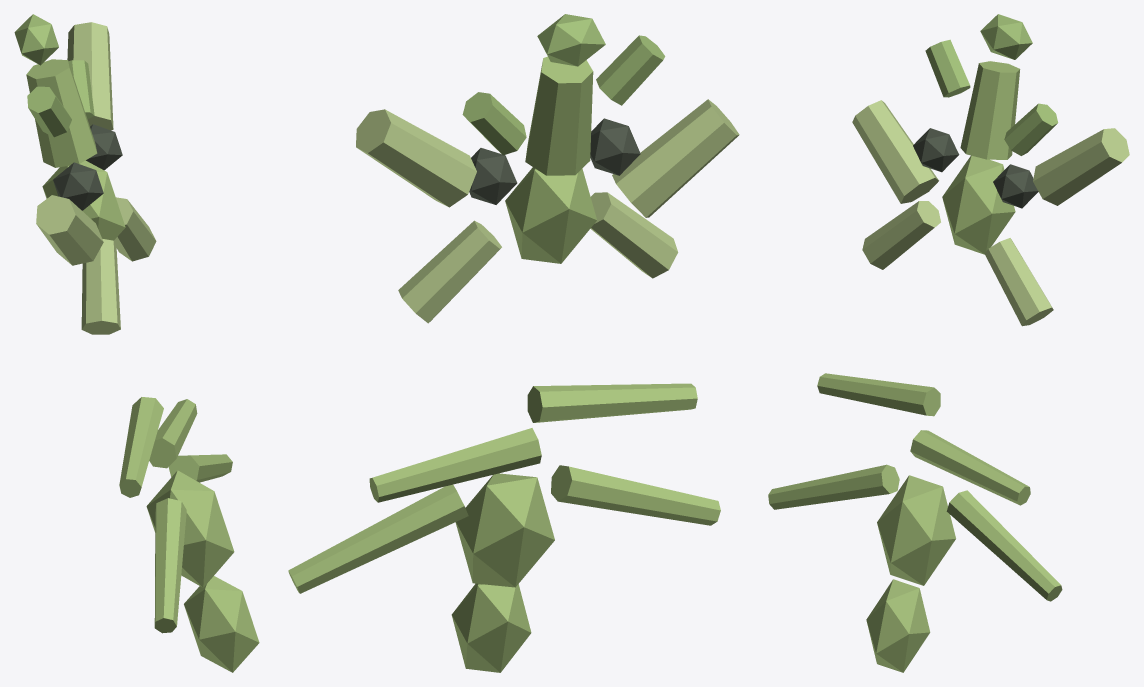
3 renders of one model, left to right at view 1: azimuth 30°, elevation 25°; view 2: azimuth 150°, elevation 25°; view 3: azimuth 270°, elevation 25°, orthographic. The views are drawn at different scales.
Parts seen in each view (by area): view 1: part1, part2, part3, part16, part12, part11, part9, part14, part0, part13, part10, part6 (+5 smaller); view 2: part1, part11, part3, part9, part0, part15, part13, part16, part14, part2, part10, part12 (+5 smaller); view 3: part1, part0, part3, part11, part2, part9, part15, part16, part13, part14, part10, part12 (+5 smaller).
Boxes of the visible parts, box(x1,y1,x2,y2) form: part1: box(146, 470, 234, 587); part2: box(184, 576, 259, 672); part3: box(26, 59, 97, 167); part16: box(154, 498, 186, 633); part12: box(81, 239, 120, 334); part11: box(36, 195, 103, 265); part9: box(67, 22, 113, 130); part14: box(119, 397, 163, 497); part0: box(42, 160, 125, 240); part13: box(149, 399, 197, 468); part10: box(114, 197, 156, 261); part6: box(53, 162, 103, 210); part1: box(455, 473, 554, 587); part11: box(612, 99, 739, 217); part3: box(525, 56, 593, 175); part9: box(356, 109, 476, 207); part0: box(505, 167, 596, 263); part15: box(288, 484, 468, 593); part13: box(369, 428, 541, 502); part16: box(551, 465, 720, 525); part14: box(527, 383, 697, 422); part2: box(451, 583, 531, 672); part10: box(398, 220, 501, 323); part12: box(590, 192, 678, 278); part1: box(877, 475, 955, 585); part0: box(942, 155, 1015, 254); part3: box(960, 61, 1020, 159); part11: box(852, 100, 938, 203); part2: box(866, 579, 930, 672); part9: box(1033, 128, 1129, 205); part15: box(946, 490, 1062, 601); part16: box(768, 464, 899, 509); part13: box(910, 430, 1030, 505); part14: box(817, 373, 940, 416); part10: box(984, 238, 1053, 326); part12: box(862, 201, 940, 269).
Size of the model in its own units: 9.05 by 18.84 by 10.52.
